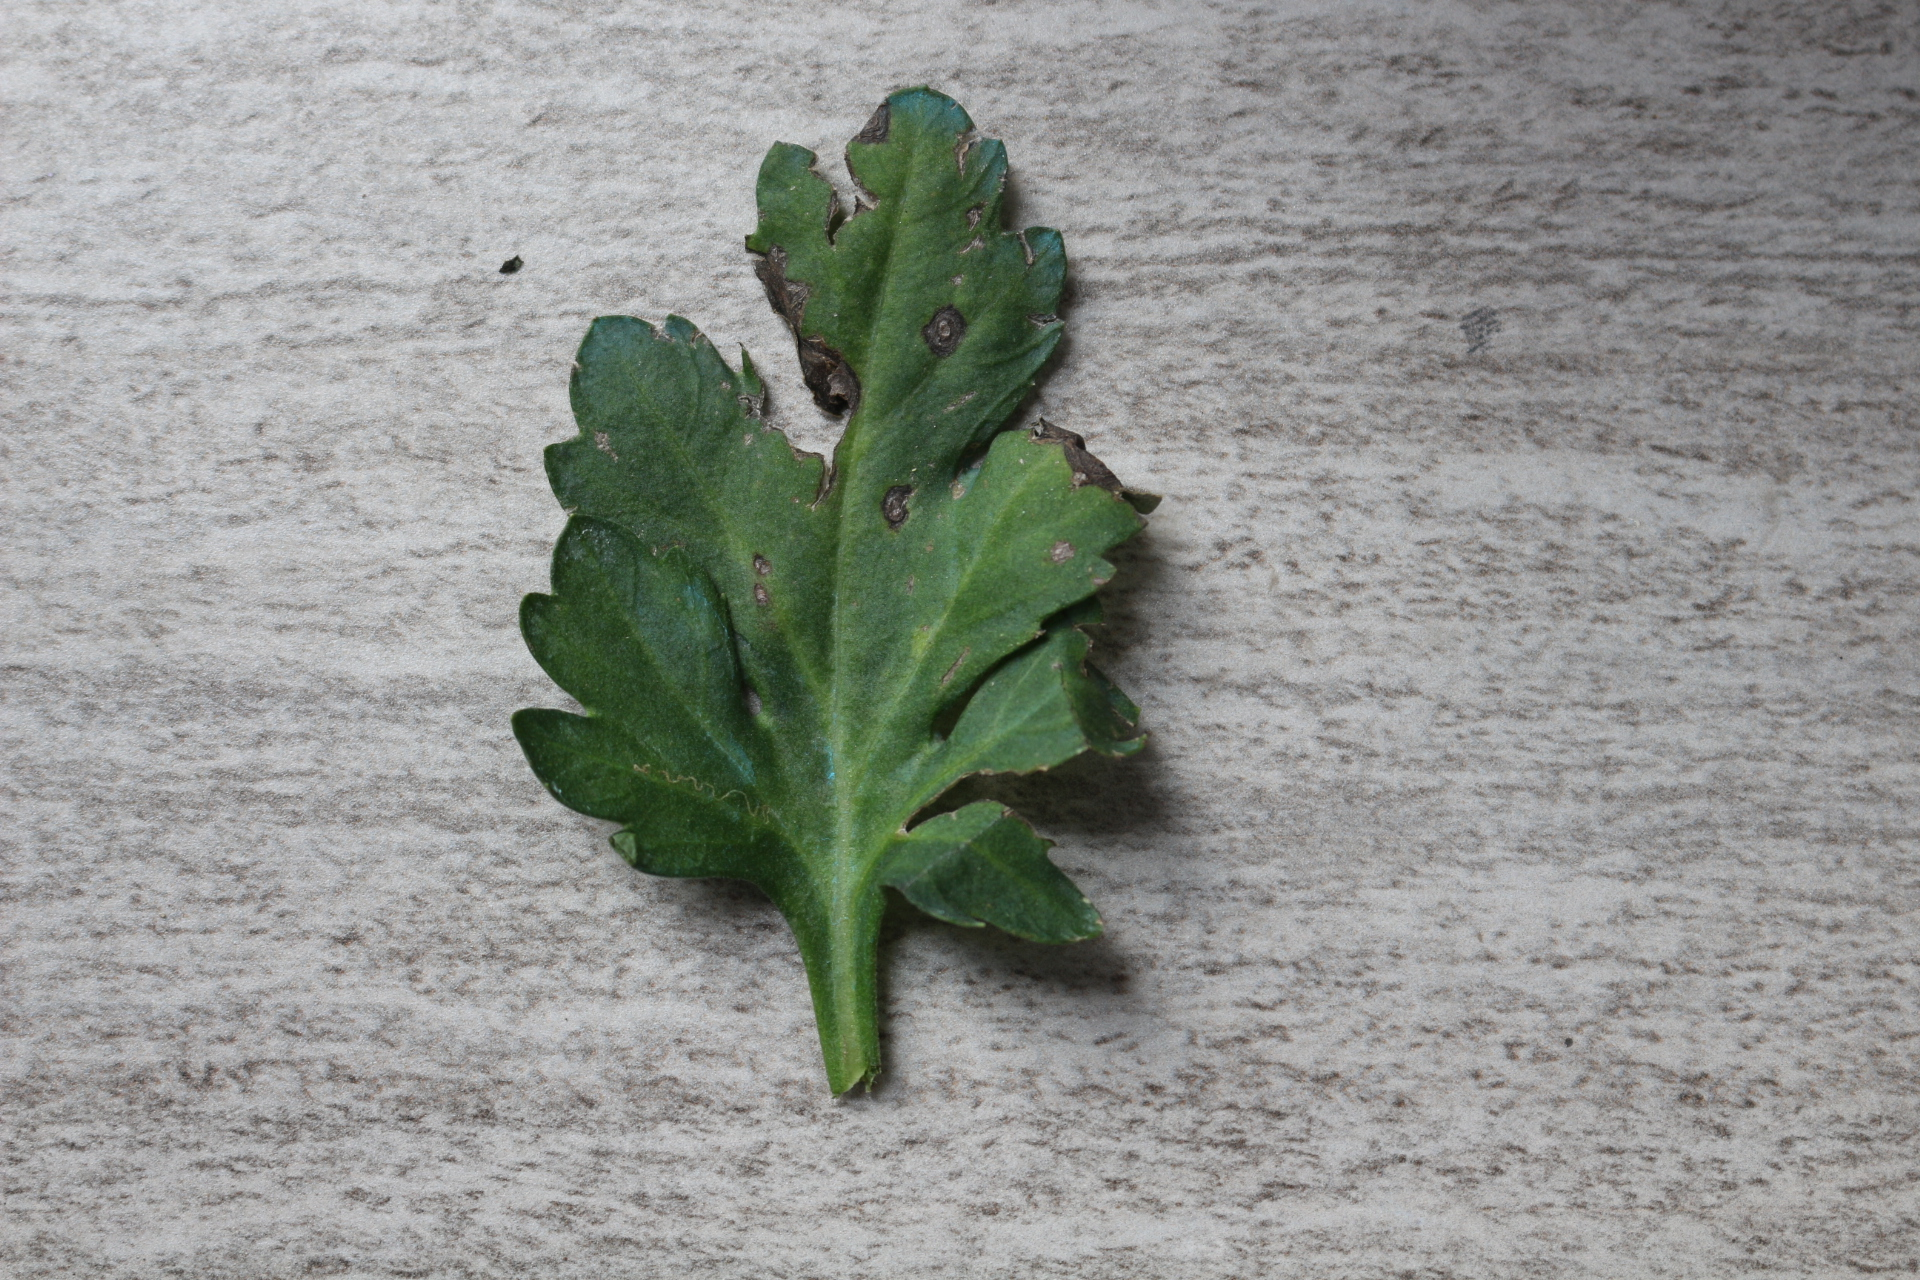namden: (921, 299, 971, 364), (879, 479, 917, 539), (747, 554, 781, 620), (1050, 540, 1079, 567)
